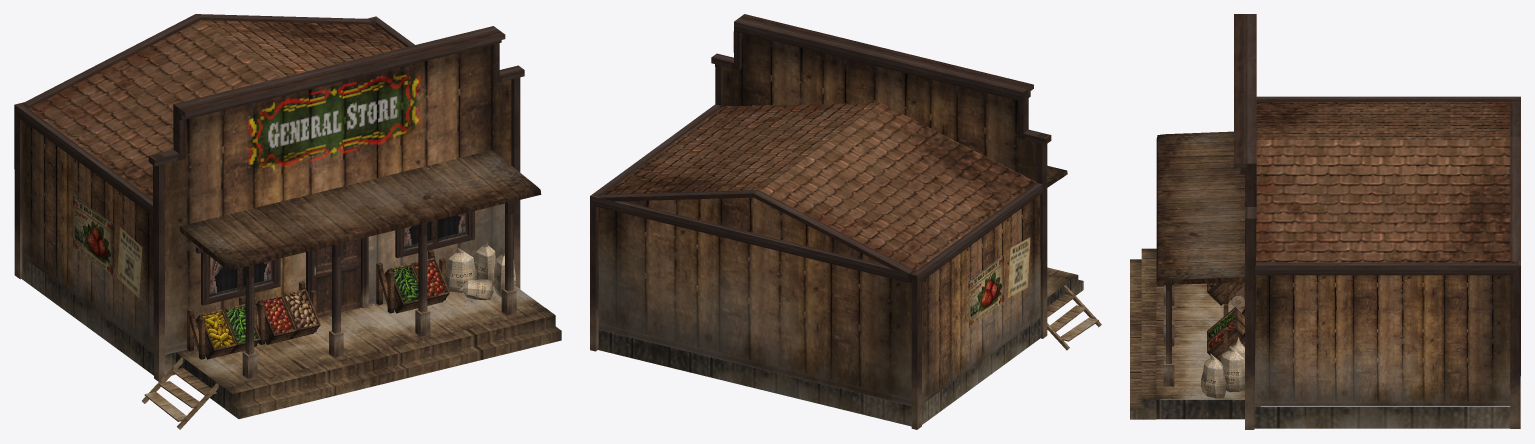
File: GenShop_house_.fbx
The picture shows the model from 3 angles, left to right: view 1: azimuth 30°, elevation 25°; view 2: azimuth 150°, elevation 25°; view 3: azimuth 270°, elevation 25°; orthographic projection. The views are drawn at different scales.
Visible parts, largest first — view 1: GeneralShop; view 2: GeneralShop; view 3: GeneralShop.
Boxes of the visible parts, x1,y1,x2,y2 form: GeneralShop: (14,14,561,429); GeneralShop: (590,14,1101,429); GeneralShop: (1130,14,1520,429).
Bounding box in the file's own units: 8.15 × 5.7 × 7.47.
Materials: 5 (5 with a texture image).
